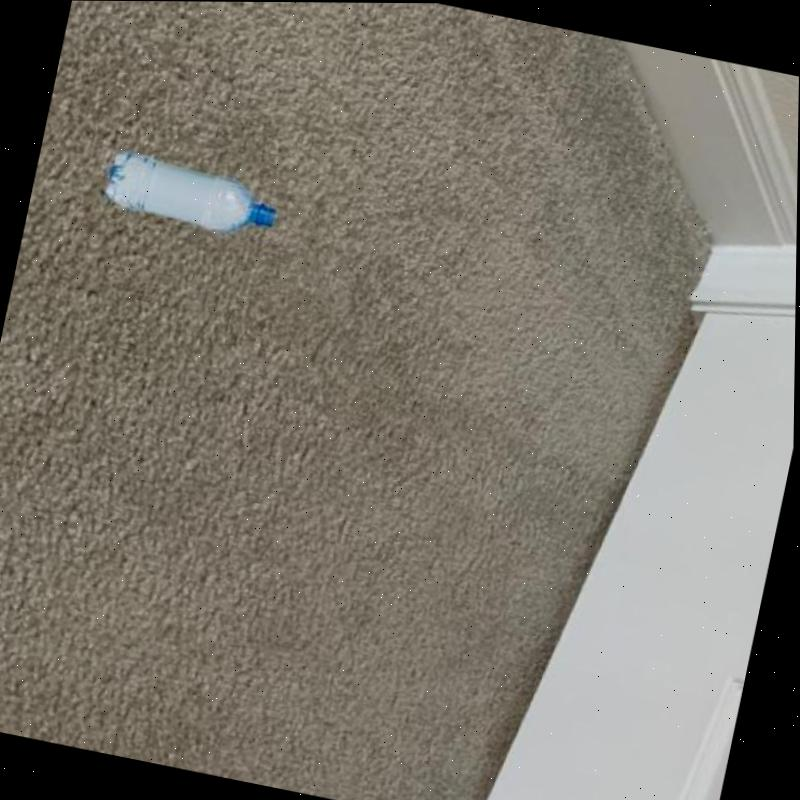botella: (99, 146, 283, 243)
